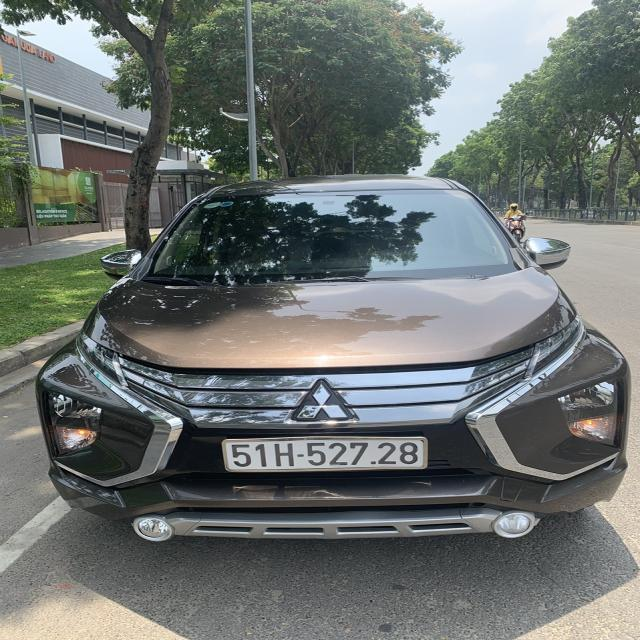car: (43, 189, 630, 555)
plate: (224, 431, 437, 478)
